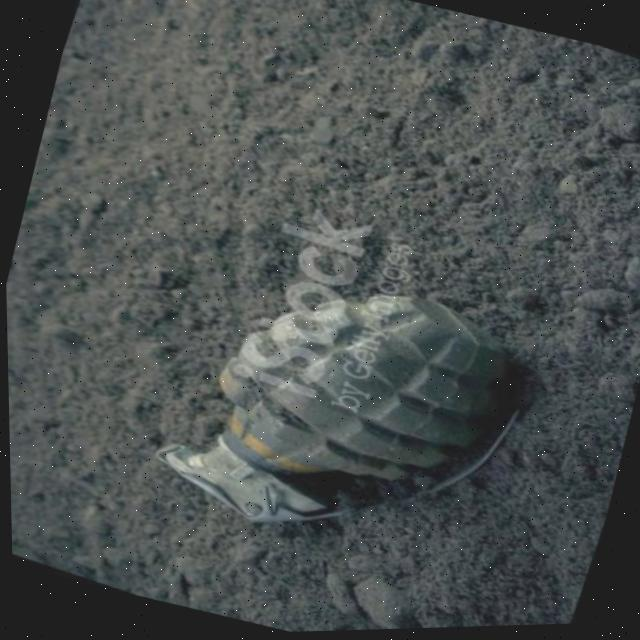grenade: (131, 213, 564, 610)
